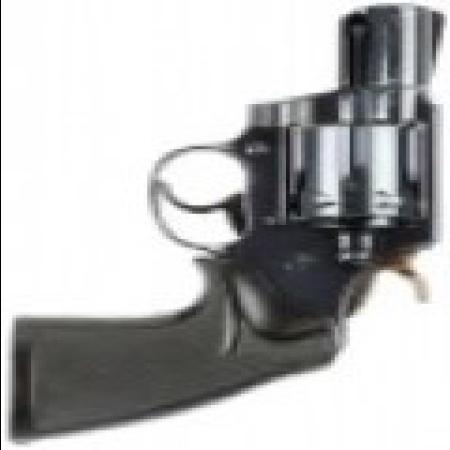Pistol: (23, 8, 442, 436)
